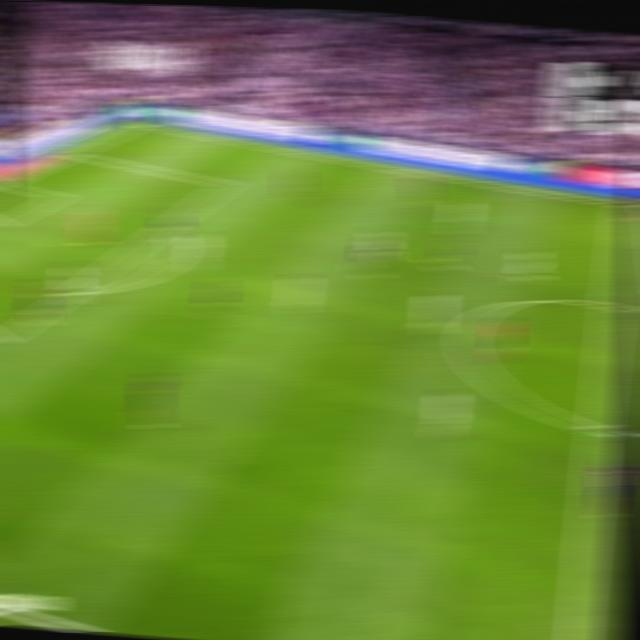bigarea_top_inner: (216, 176, 238, 192)
bigarea_top_outter: (65, 146, 85, 157)
corner: (131, 117, 152, 129)
halfcircle_bottom: (585, 412, 614, 445)
halfcircle_top: (598, 291, 627, 320)
midline_top_intersection: (615, 199, 635, 211)
smallarea_top_inner: (49, 191, 68, 201)
top_arc_area_intersection: (157, 219, 178, 232)
